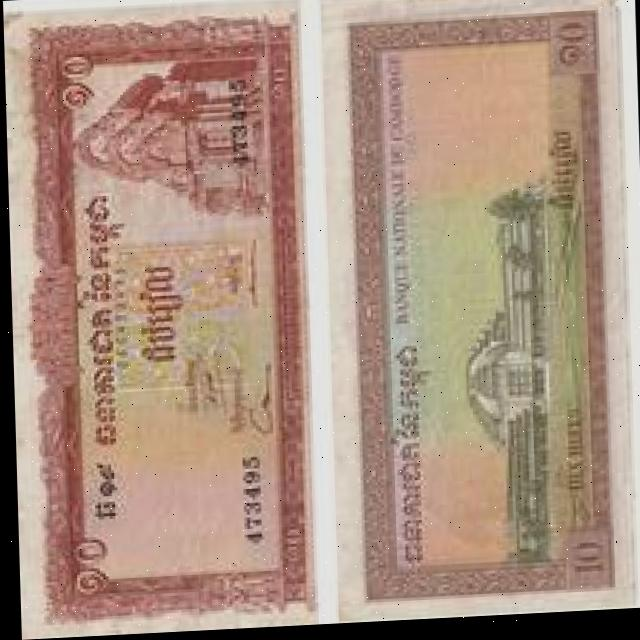banknote: (5, 0, 327, 640), (318, 0, 635, 627), (558, 533, 613, 595)
